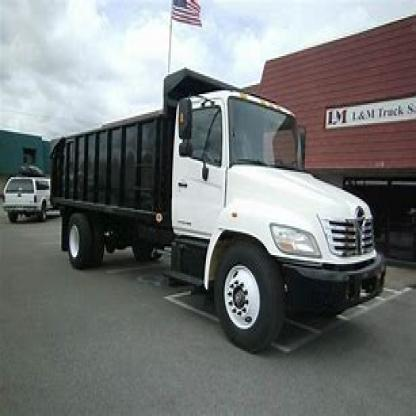dump_truck: (42, 40, 404, 383)
